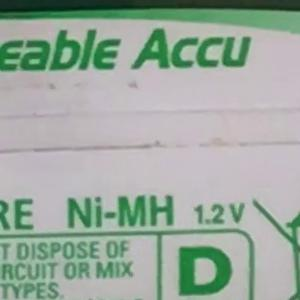NI-MH: (42, 186, 182, 246)
